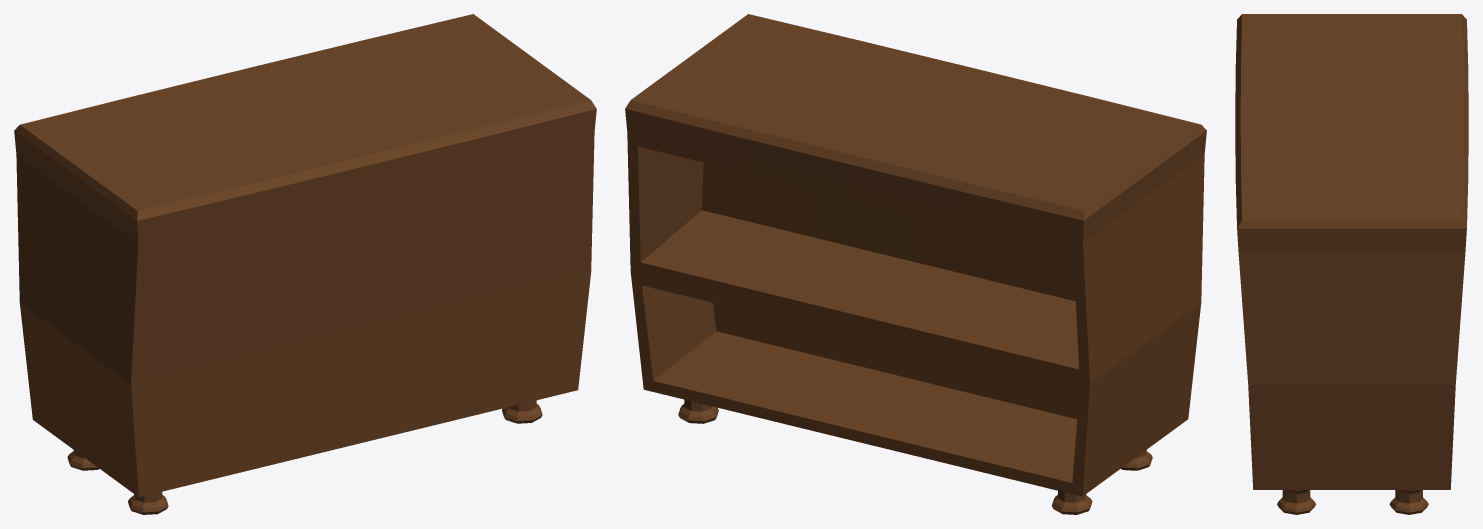
File: shortcupboard.fbx
The picture shows the model from 3 angles, left to right: view 1: azimuth 30°, elevation 25°; view 2: azimuth 150°, elevation 25°; view 3: azimuth 270°, elevation 25°; orthographic projection. The views are drawn at different scales.
Visible parts, largest first — view 1: Cube.002; view 2: Cube.002; view 3: Cube.002.
Part boxes in pixels (x1,y1,x2,y2): Cube.002: [14, 14, 596, 514]; Cube.002: [625, 14, 1206, 514]; Cube.002: [1235, 14, 1468, 514].
Size of the model in its own units: 3.25 by 1.53 by 2.21.
